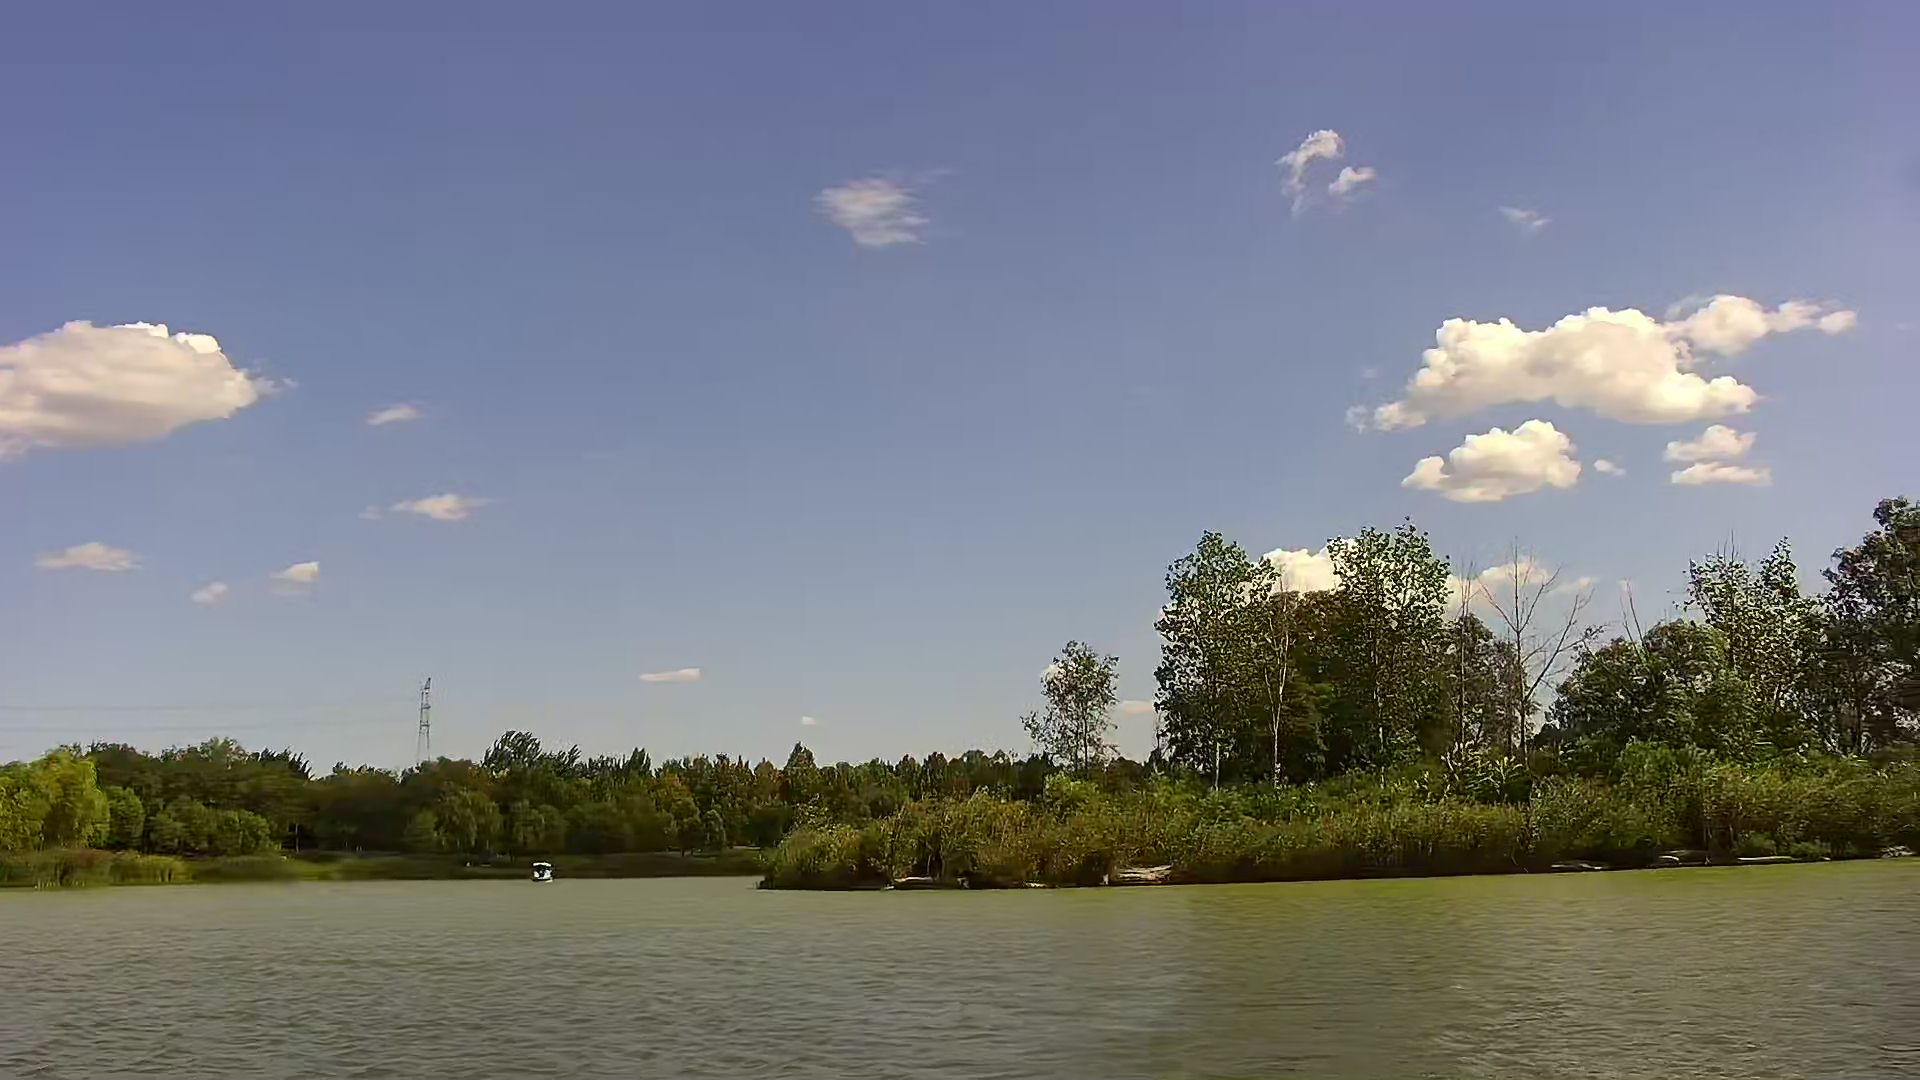rock: (1101, 861, 1168, 884), (886, 877, 952, 887)
